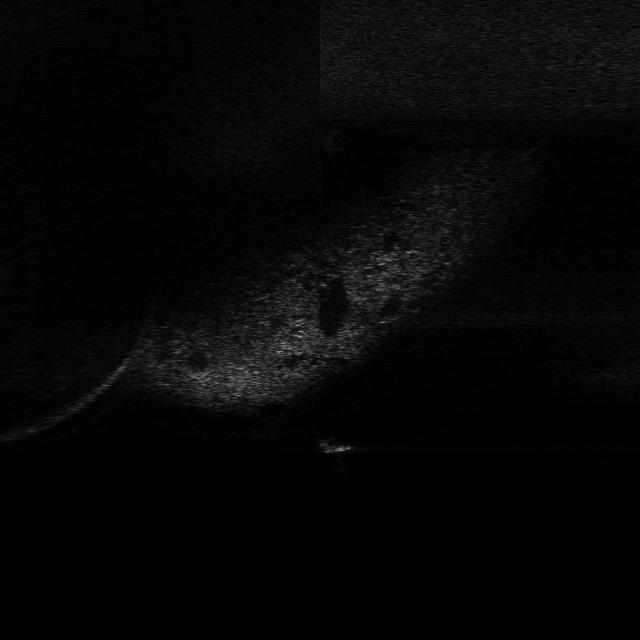cube: (310, 434, 360, 456)
